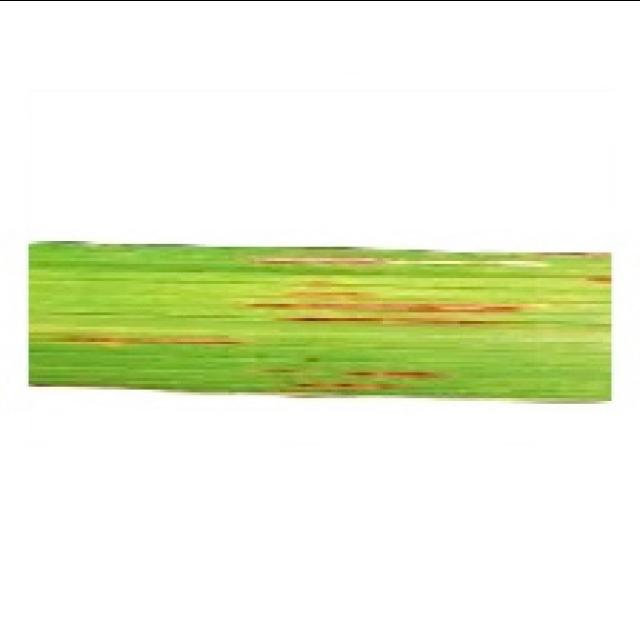Unhealthy: (242, 297, 528, 314), (63, 332, 238, 344), (287, 313, 477, 324), (253, 255, 383, 265), (343, 369, 447, 379), (299, 381, 404, 390), (288, 288, 371, 298), (586, 274, 613, 286)
